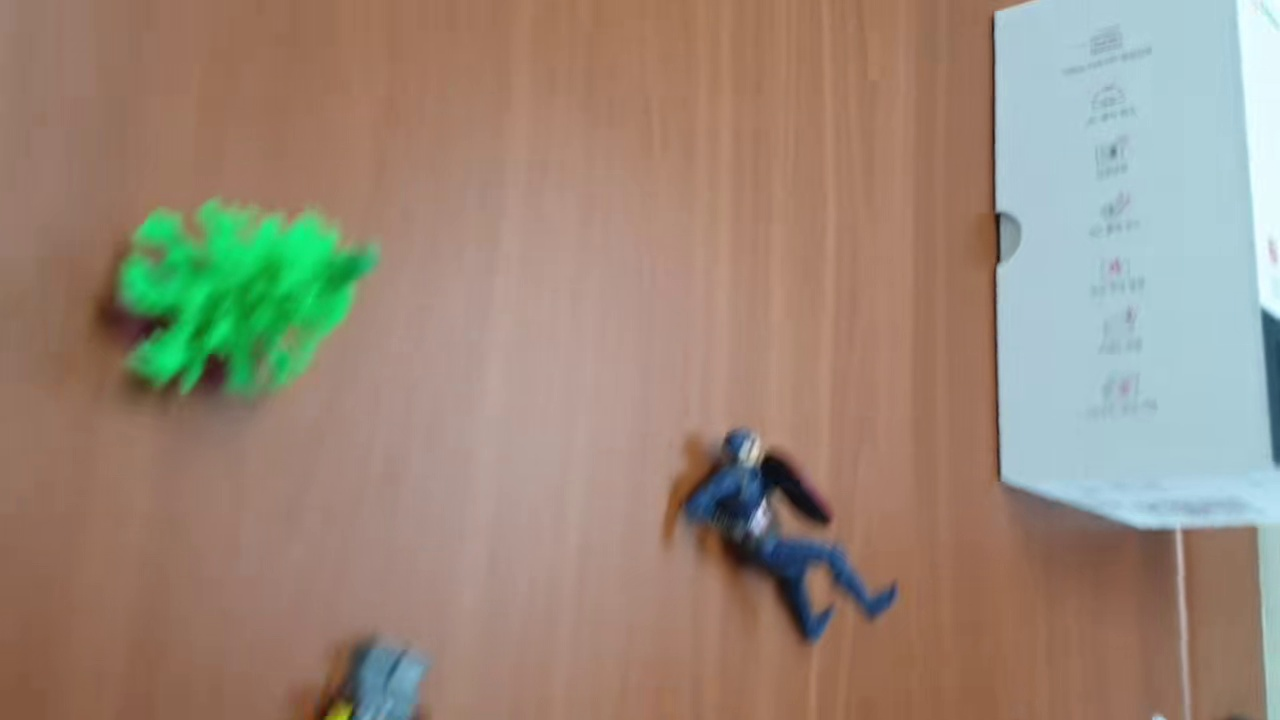people: (676, 426, 902, 640), (319, 637, 433, 720)
tree: (87, 195, 380, 415)
